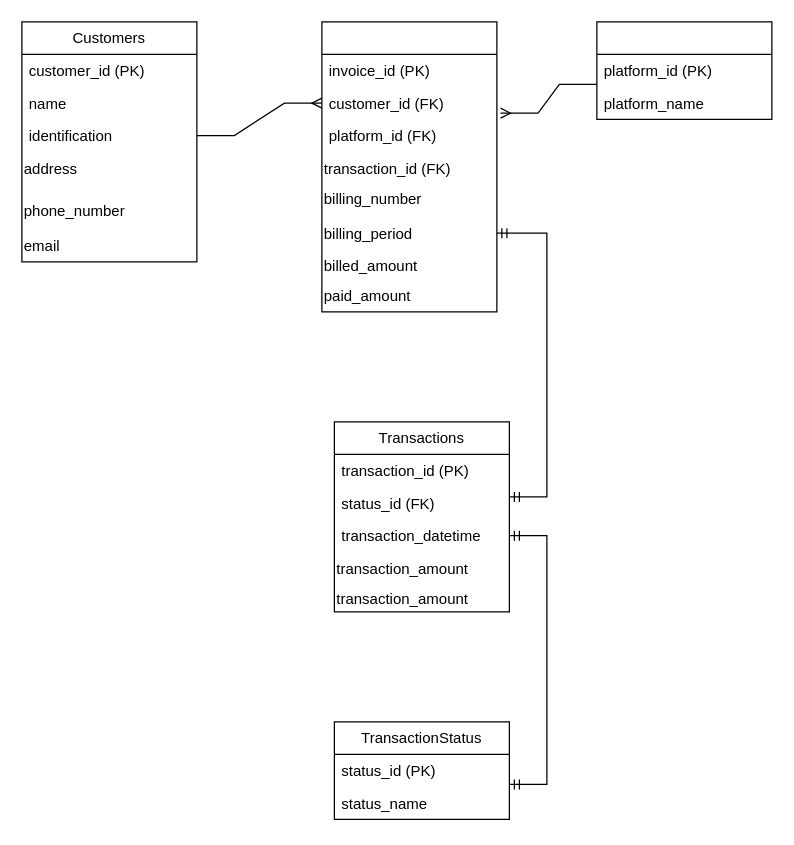
Image size: 794x845. Some labels were removed from this diagram. The box of each missing label's shape, as (x1, y1, x2, y2) in pixels:
Invoices: (321, 21, 497, 312)
Platforms: (596, 21, 772, 119)
